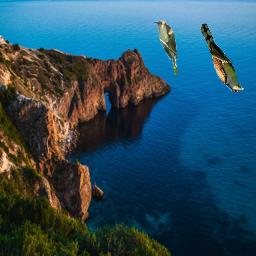Cuckoo: (200, 24, 244, 93), (152, 20, 178, 77)
